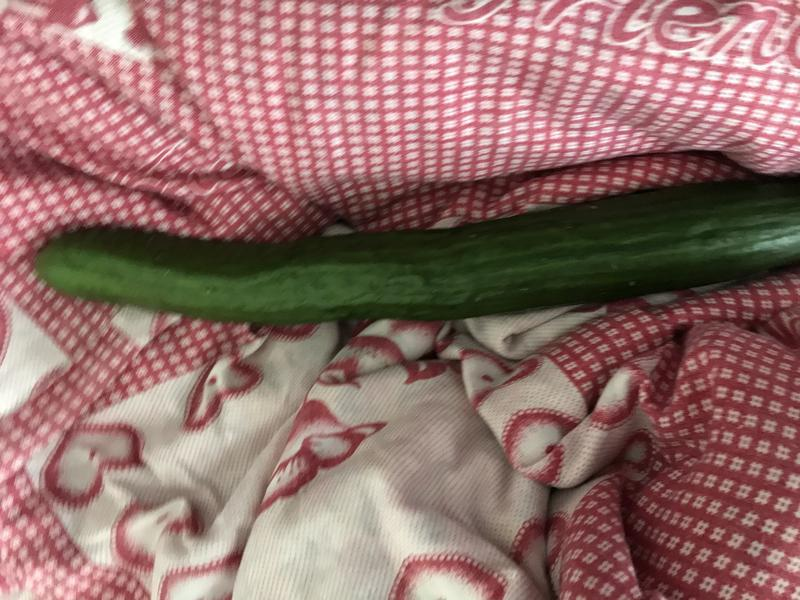cucumber: (31, 169, 800, 332)
